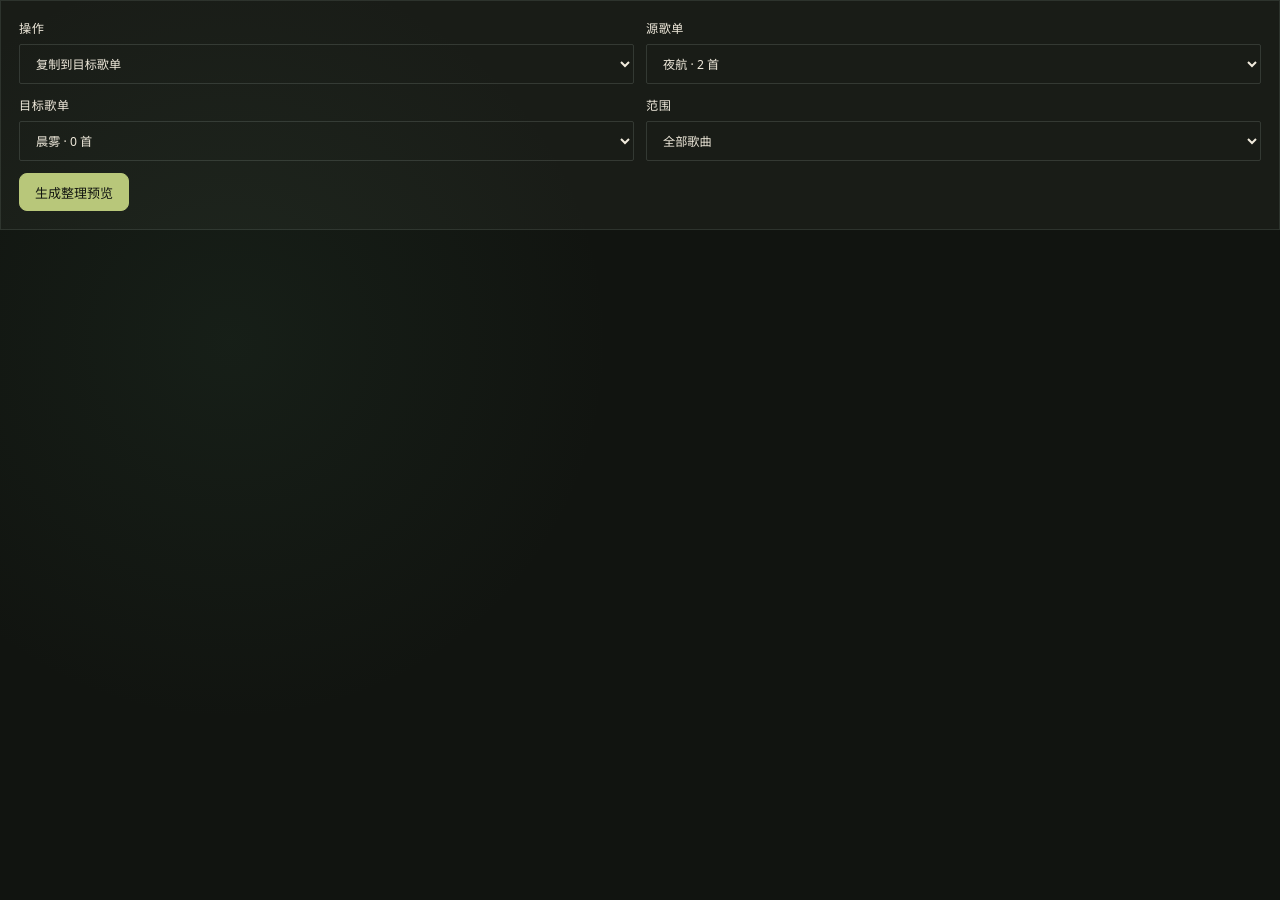
Test: organizer panel › 必须先预览、勾选二次确认，执行时不回传曲目列表
The image size is (1280, 900).
Step 1. Click the button "生成整理预览" → click(74, 192), box [19, 173, 129, 211]
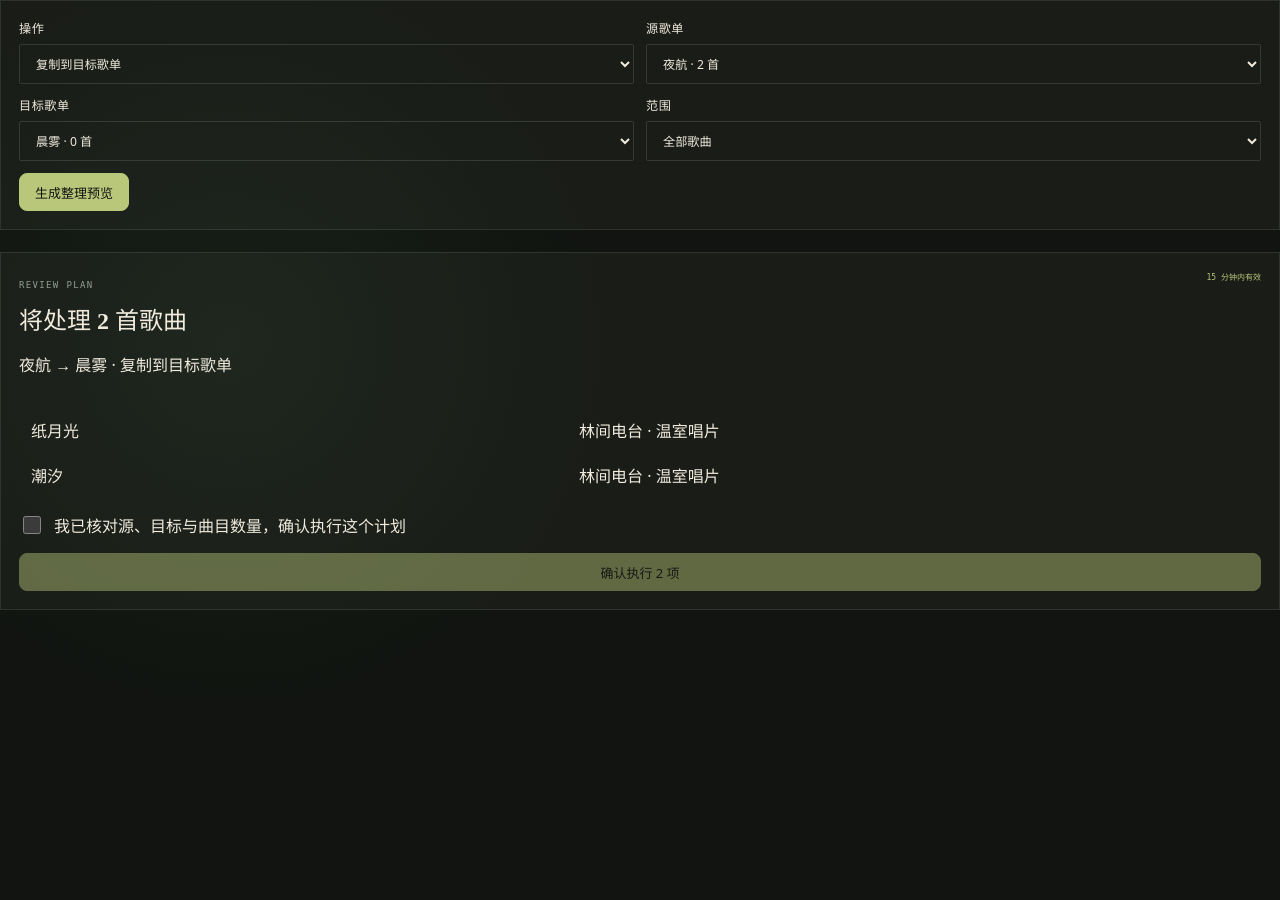
Expected: the heading "将处理 2 首歌曲" is shown, [19, 308, 187, 334]
Expected: the button "确认执行 2 项" is disabled, [19, 553, 1261, 591]
Step 2. Click the checkbox labelled "我已核对源、目标与曲目数量，确认执行这个计划" → click(32, 525), box [23, 516, 41, 534]
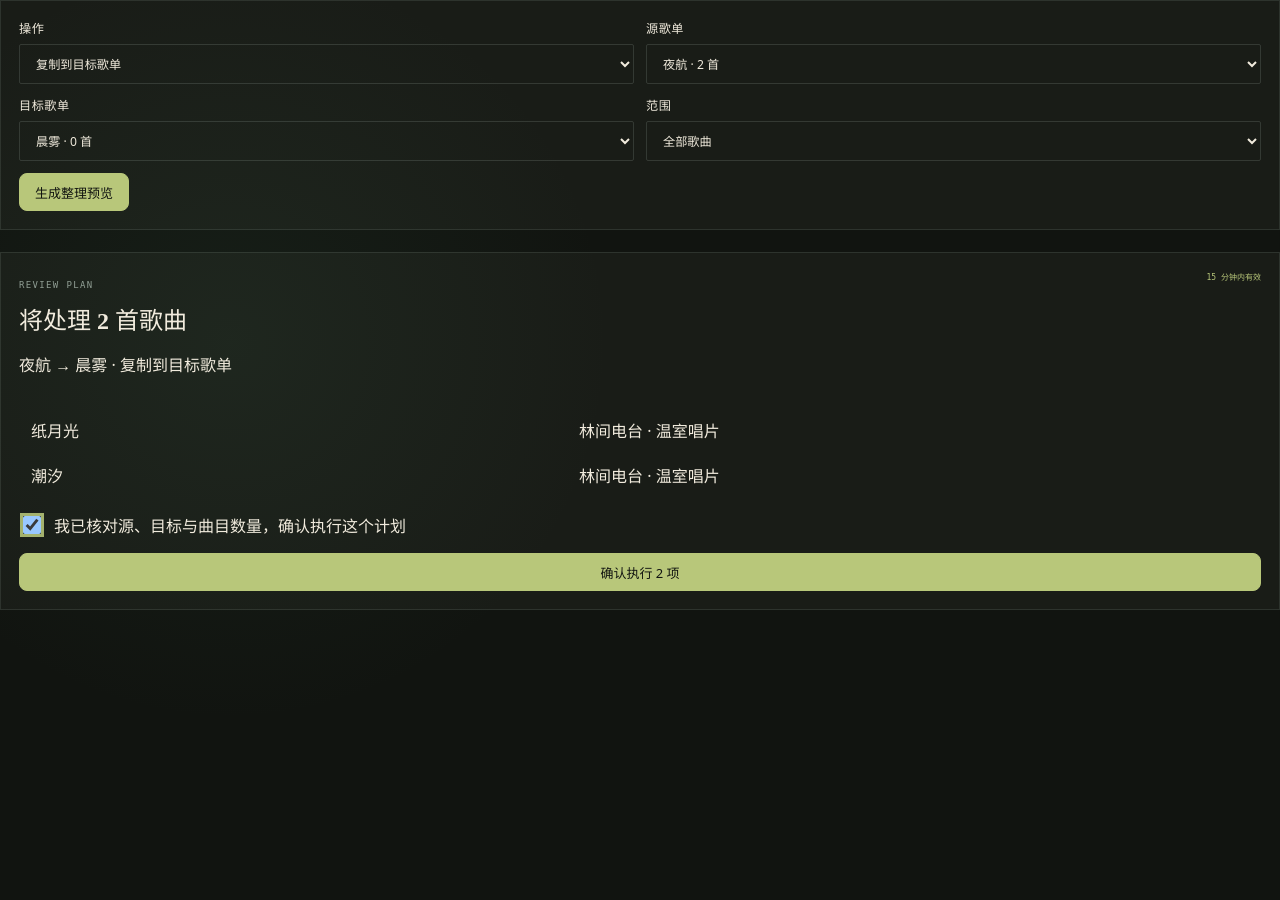
Step 3. Click the button "确认执行 2 项" → click(640, 572), box [19, 553, 1261, 591]
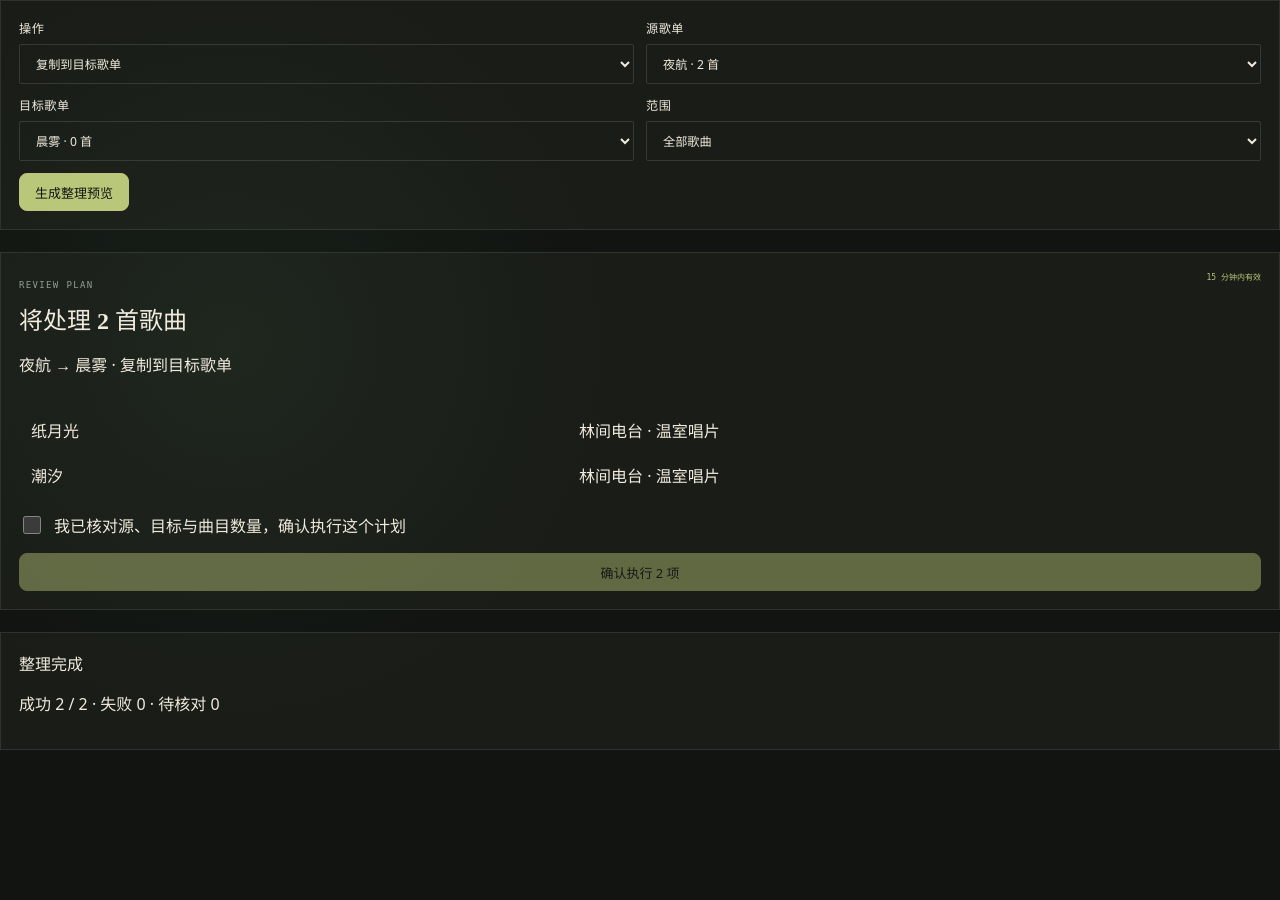
Expected: the text "整理完成" is shown, [19, 656, 83, 673]
